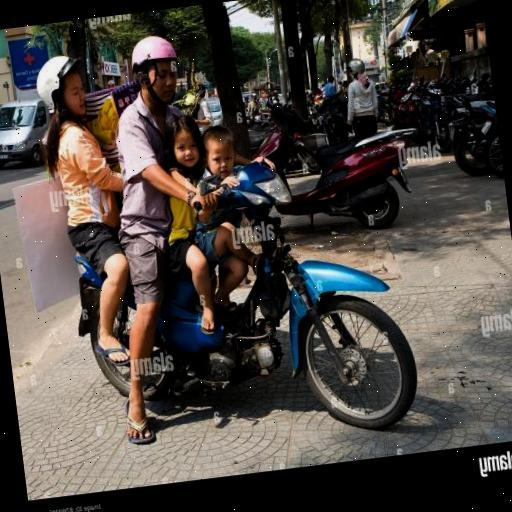helmet: (116, 28, 201, 128)
triple riding: (14, 2, 428, 455)
